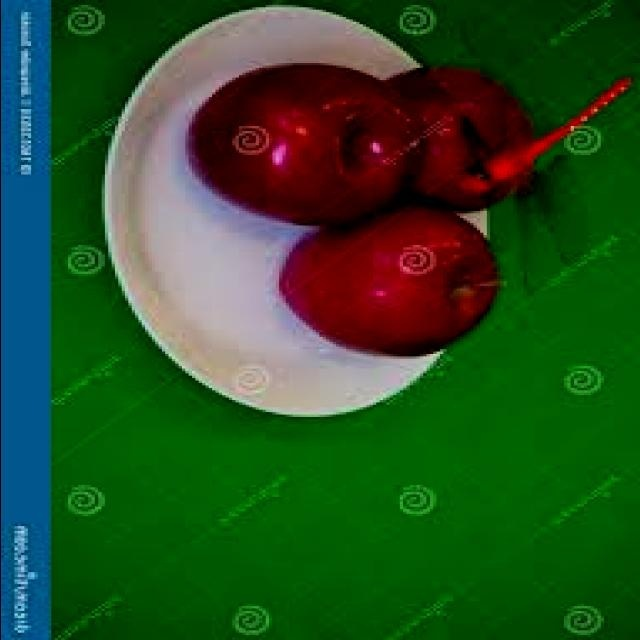agrume: (177, 56, 427, 244), (261, 204, 527, 376), (364, 70, 586, 245)
